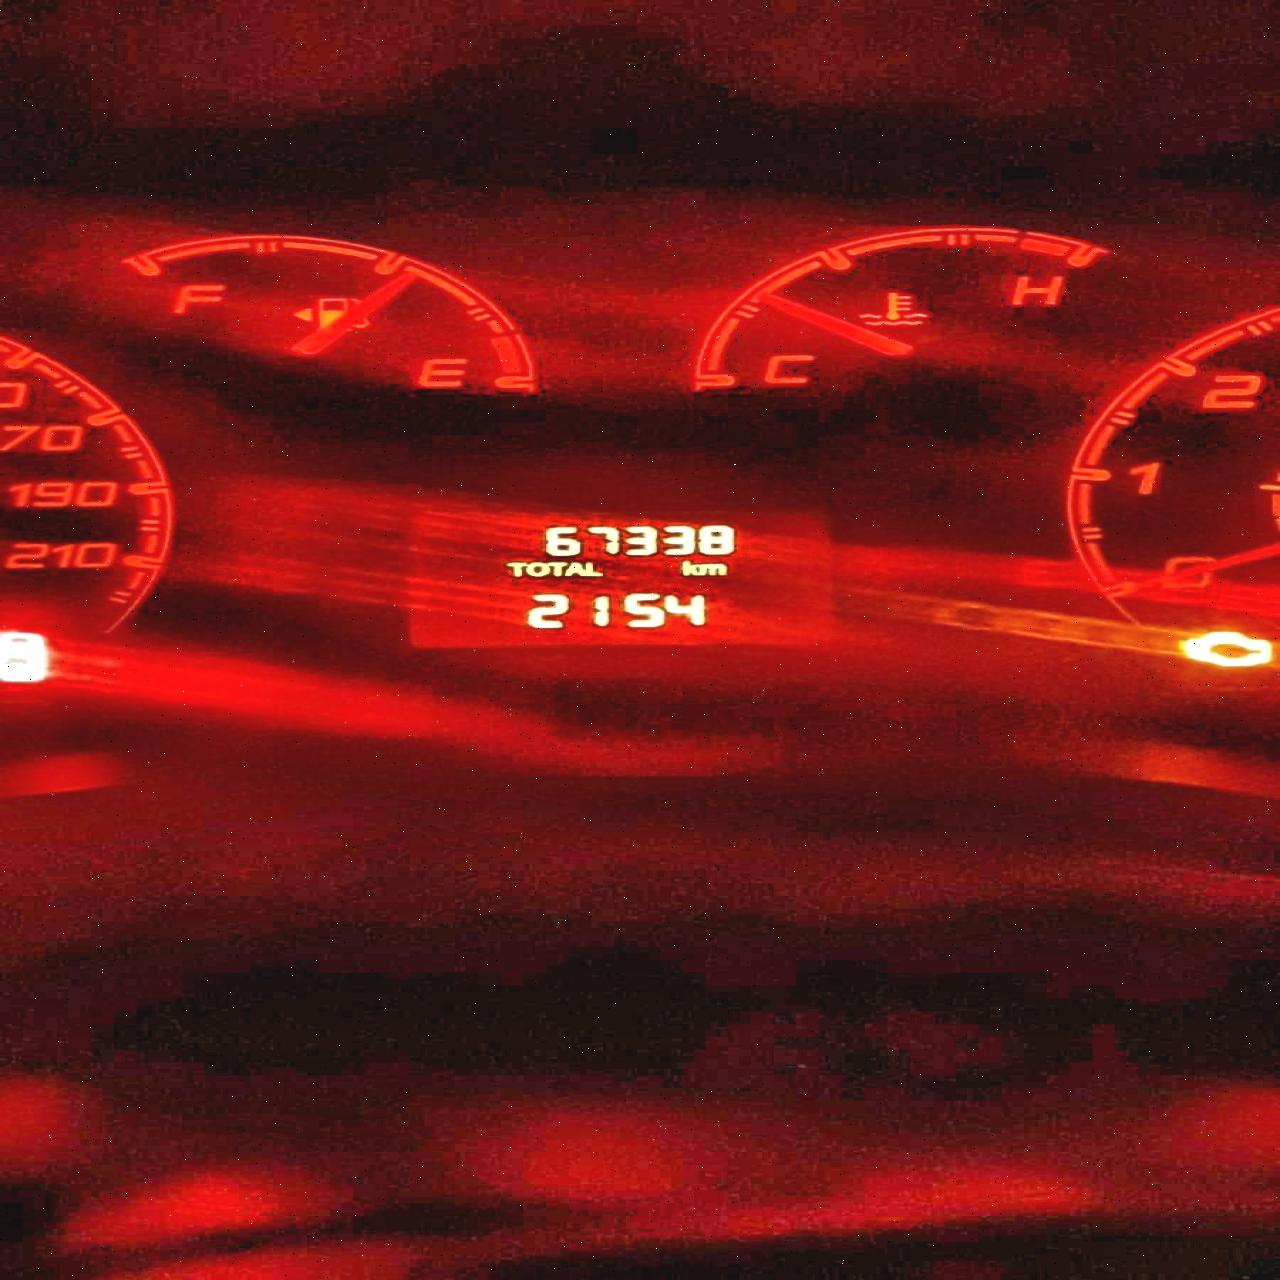1: (590, 594, 610, 627)
2: (524, 593, 571, 629)
3: (621, 525, 658, 556), (661, 525, 695, 556)
4: (662, 593, 706, 626)
5: (620, 592, 663, 627)
6: (544, 526, 580, 557)
7: (585, 525, 619, 554)
8: (697, 524, 734, 554)
X: (523, 561, 549, 577), (697, 563, 727, 576), (561, 561, 586, 576), (505, 561, 527, 577), (583, 561, 602, 577), (546, 561, 567, 576), (681, 559, 696, 576)
odometer: (401, 506, 842, 652)
